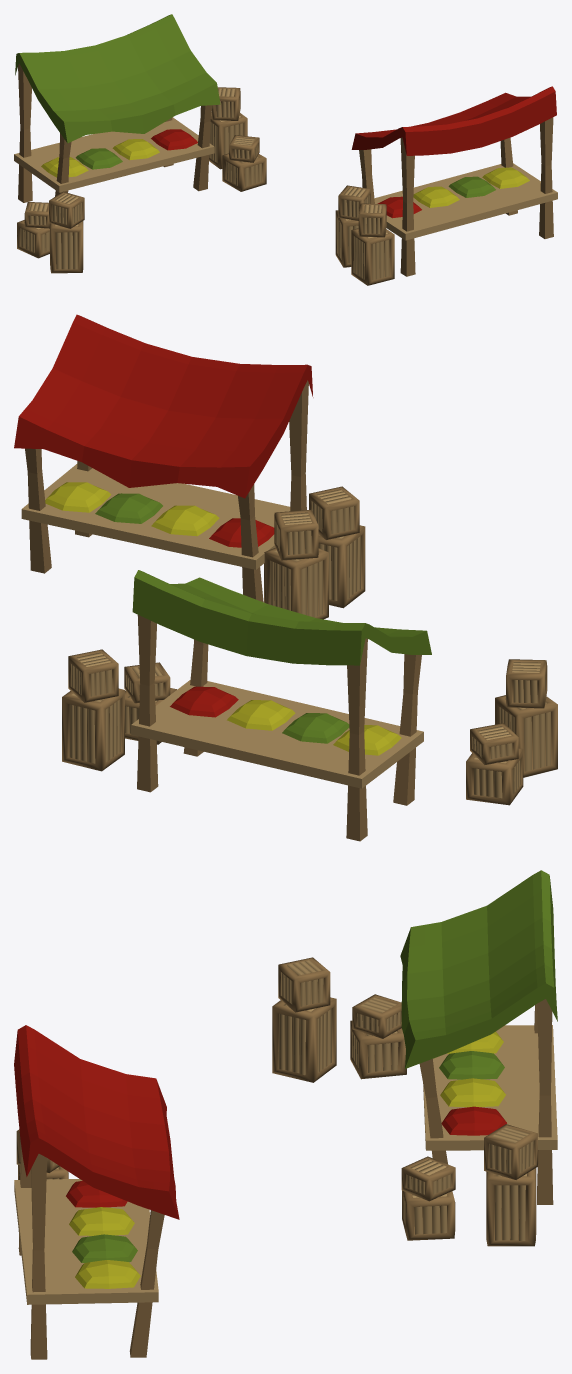
File: Market Stalls.glb
The picture shows the model from 3 angles, top to bottom: view 1: azimuth 30°, elevation 25°; view 2: azimuth 150°, elevation 25°; view 3: azimuth 270°, elevation 25°; orthographic projection. The views are drawn at different scales.
Parts seen in each view (by area): view 1: Market_FirstAge_Level1; view 2: Market_FirstAge_Level1; view 3: Market_FirstAge_Level1.
Part boxes in pixels (box(x1,y1,x2,y2)): Market_FirstAge_Level1: box(14, 14, 557, 285); Market_FirstAge_Level1: box(14, 314, 557, 841); Market_FirstAge_Level1: box(14, 870, 557, 1359).
Size of the model in its own units: 1.62 by 0.5515 by 1.22.
